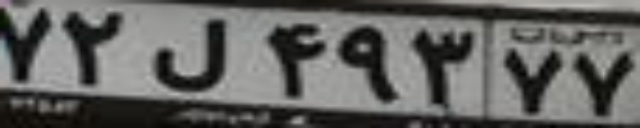2: (63, 9, 121, 85)
3: (410, 29, 471, 103)
4: (267, 23, 325, 98)
7: (0, 6, 59, 83), (500, 47, 565, 114), (574, 49, 636, 116)
9: (337, 27, 400, 103)
lam: (146, 19, 230, 90)
